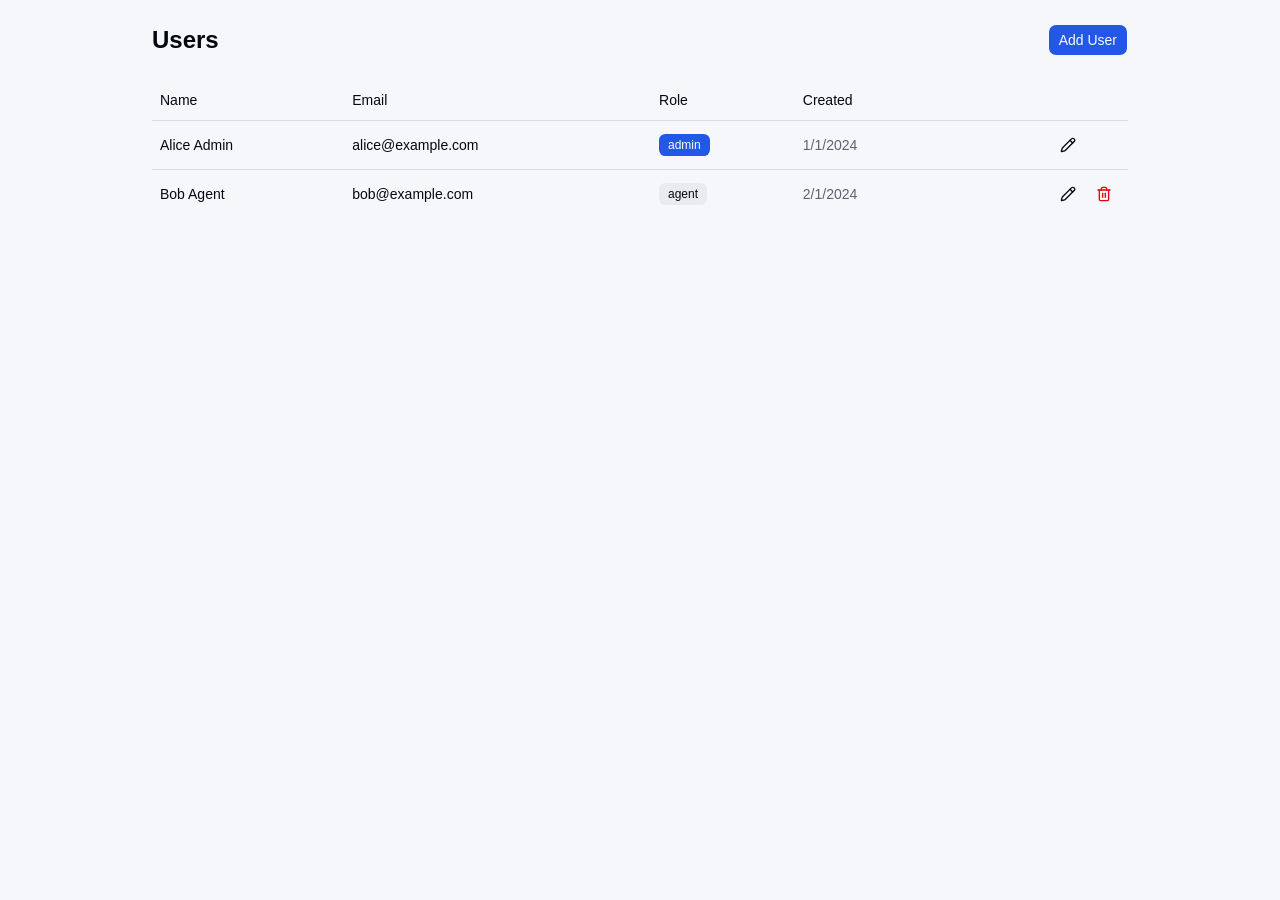
Test: UsersPage › edit dialog › shows a server error when the patch fails
The width and height of the screenshot is (1280, 900).
Expected: the text "Alice Admin" is shown, left=152, top=120, right=344, bottom=169
Click the button named "edit alice admin" at (1068, 144), box left=1052, top=128, right=1084, bottom=160
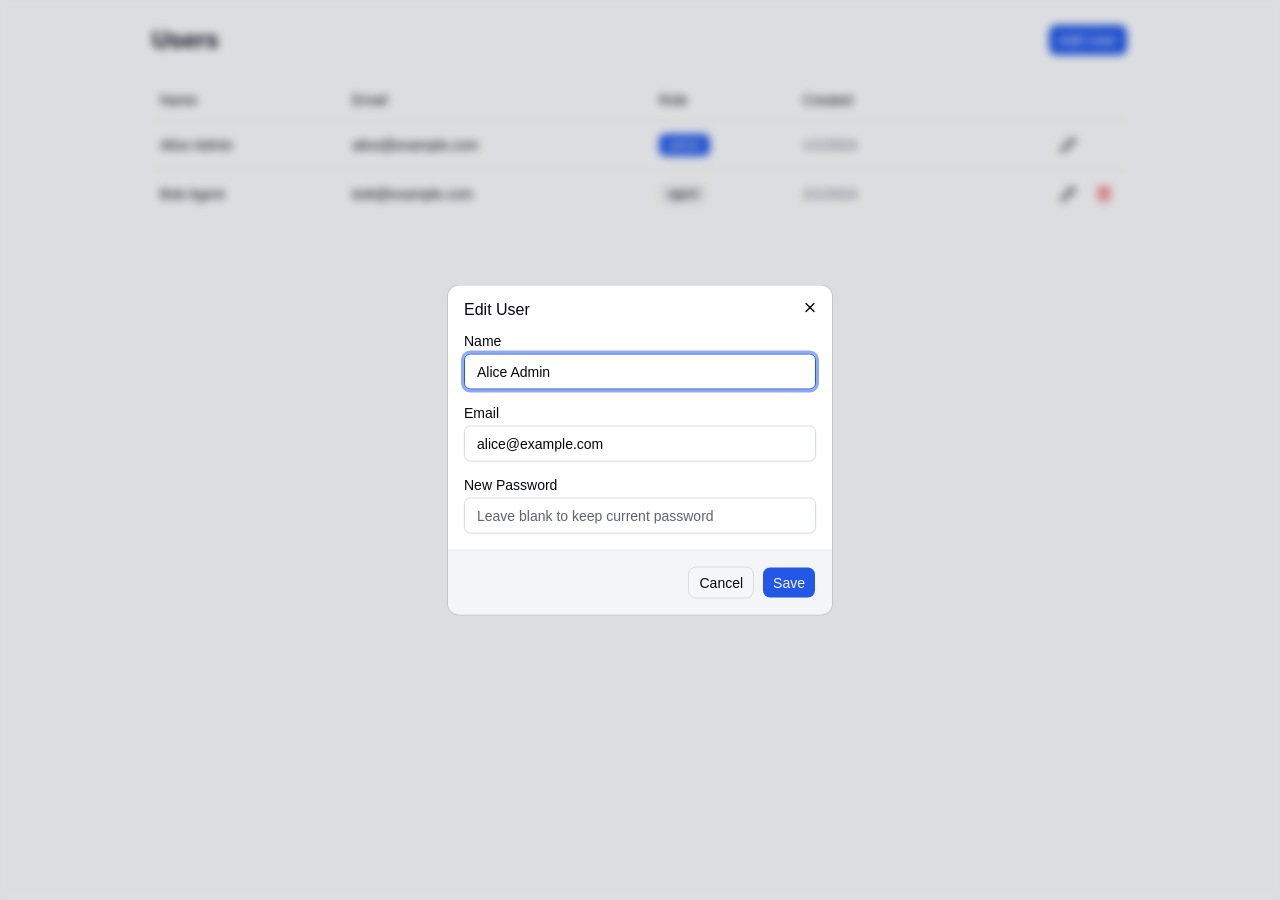
Click the button "Save" at (789, 582), box left=762, top=566, right=816, bottom=598
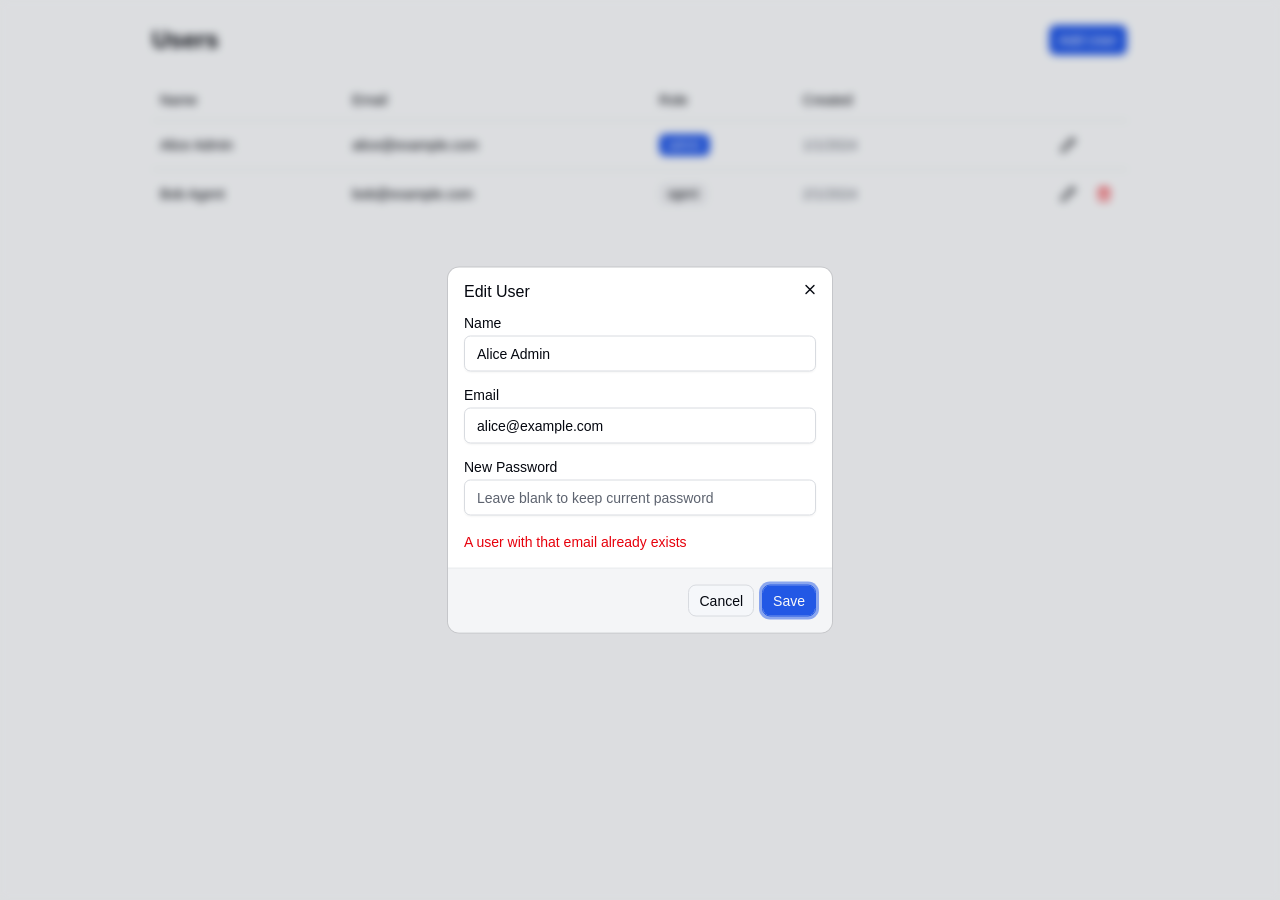
Expected: the text "A user with that email already exists" is shown, left=464, top=534, right=686, bottom=550
